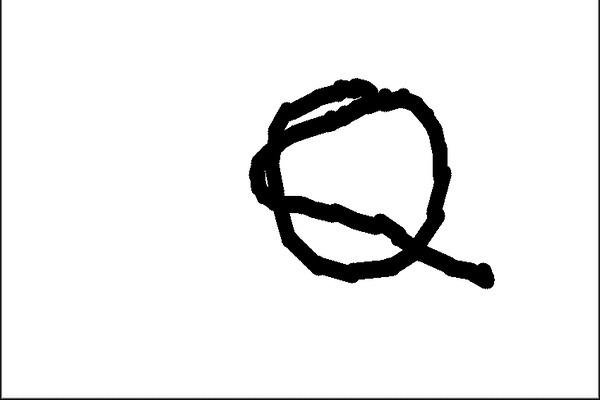Q: (236, 68, 491, 294)
